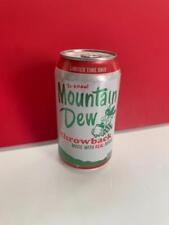metal: (55, 49, 121, 168)
